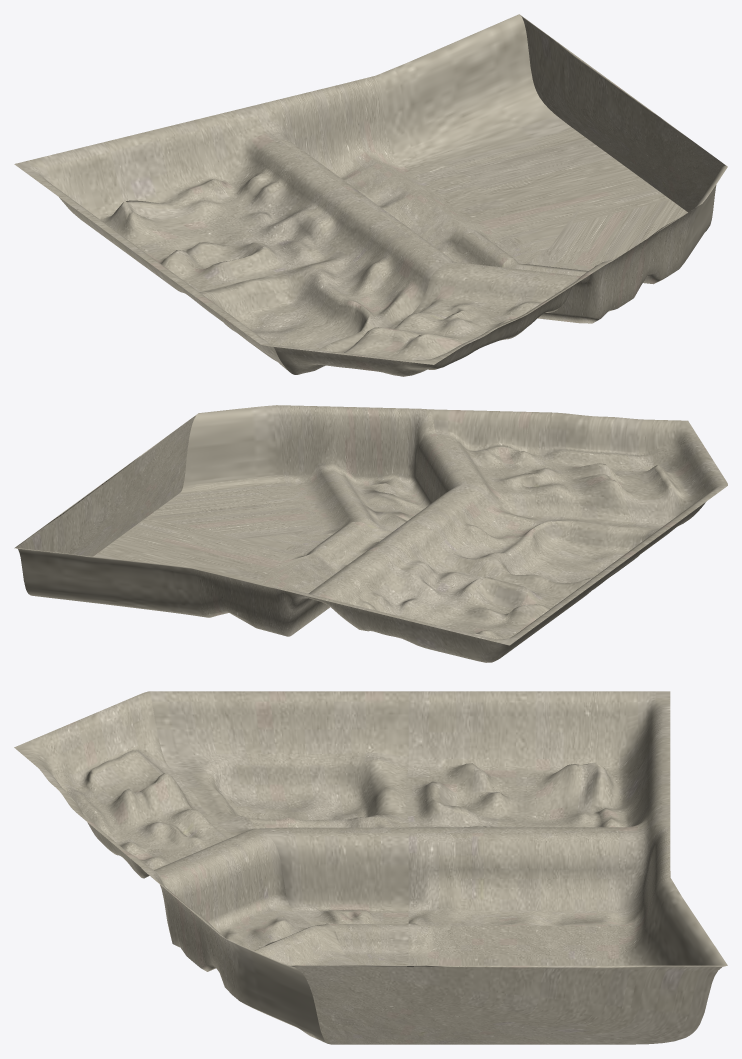
File: full.fbx
The picture shows the model from 3 angles, top to bottom: view 1: azimuth 30°, elevation 25°; view 2: azimuth 150°, elevation 25°; view 3: azimuth 270°, elevation 25°; orthographic projection. The views are drawn at different scales.
Parts seen in each view (by area): view 1: Object_1; view 2: Object_1; view 3: Object_1.
Part boxes in pixels (bbox=[...]): Object_1: bbox=[14, 14, 727, 376]; Object_1: bbox=[14, 405, 727, 662]; Object_1: bbox=[14, 691, 727, 1044].
Size of the model in its own units: 283 by 311 by 38.01.
1 material, 1 textured.
